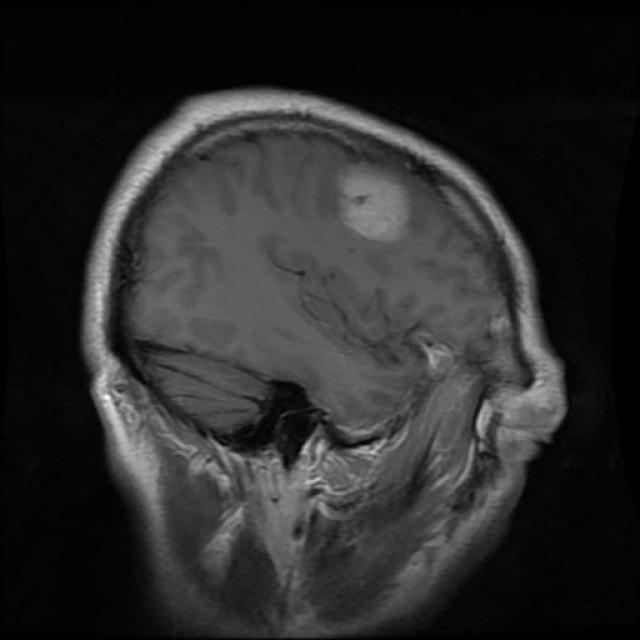meningioma: (338, 162, 411, 245)
